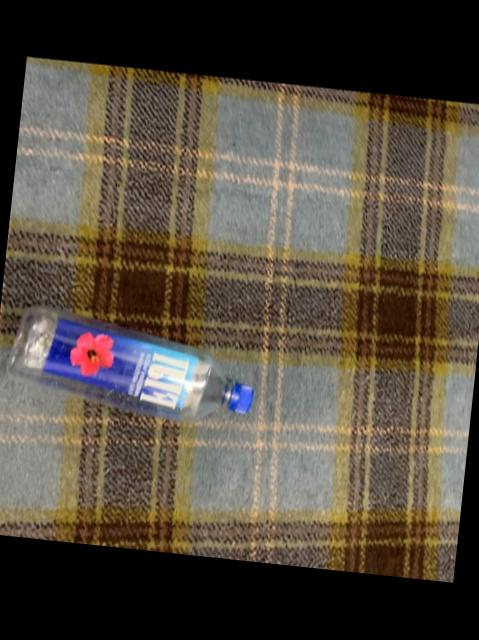plastic: (7, 308, 253, 424)
